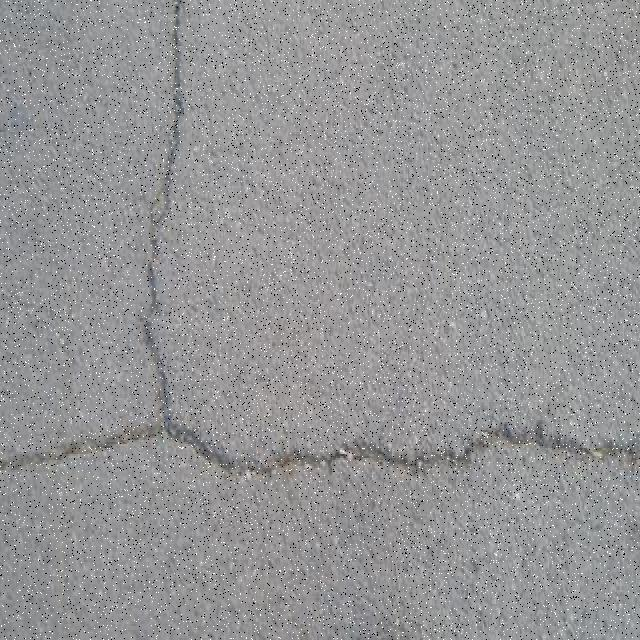moderate crack: (5, 418, 637, 480), (318, 594, 418, 638)
severe crack: (165, 0, 226, 450)
